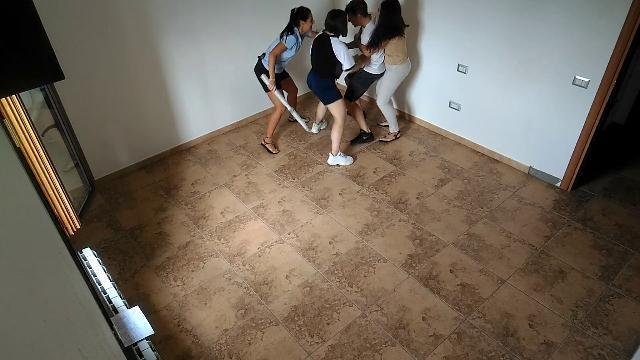violence: (251, 1, 413, 168), (250, 5, 320, 157)
